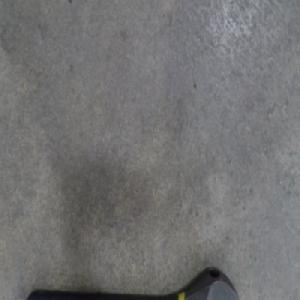AdjustableWrench: (28, 267, 238, 300)
